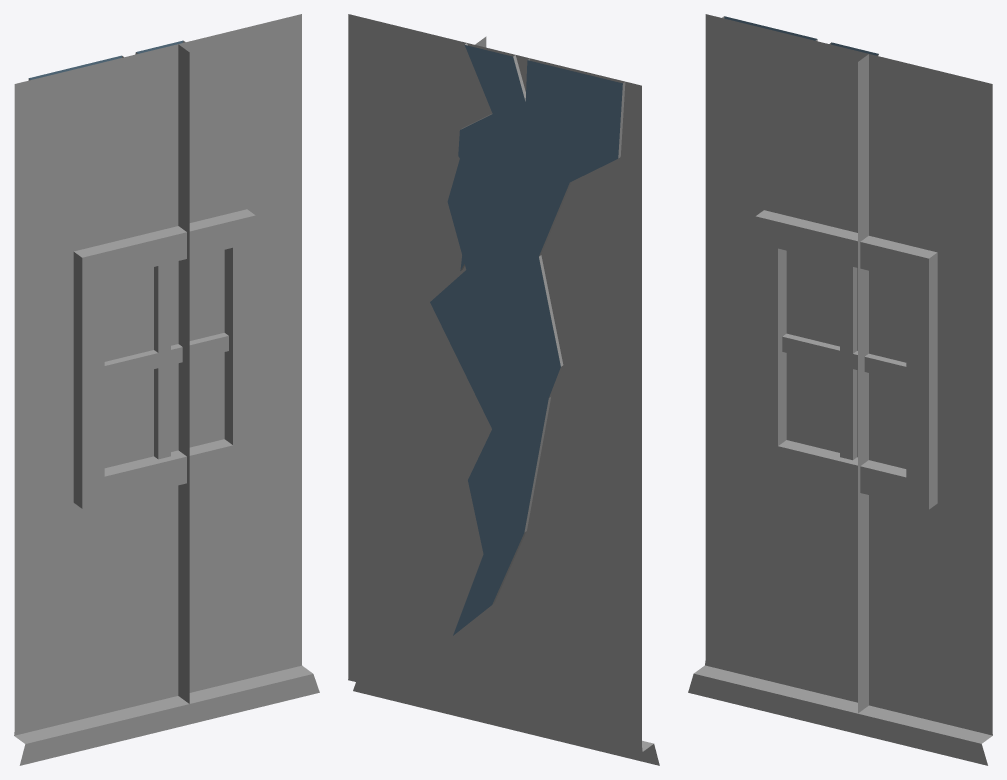
File: TileMuro.fbx
3 renders of one model, left to right at view 1: azimuth 30°, elevation 25°; view 2: azimuth 150°, elevation 25°; view 3: azimuth 330°, elevation 25°, orthographic. The views are drawn at different scales.
Parts seen in each view (by area): view 1: TileMuro1, TileMuro6, TileMuro7, TileMuro2, TileMuro3, TileMuro4, TileMuro5, TileMuro8; view 2: TileMuro1, TileMuro3, TileMuro4, TileMuro6, TileMuro7, TileMuro5; view 3: TileMuro1, TileMuro3, TileMuro6, TileMuro2, TileMuro4, TileMuro7, TileMuro8, TileMuro5.
Boxes of the visible parts, x1,y1,x2,y2 form: TileMuro1: [14, 14, 312, 753]; TileMuro6: [14, 36, 319, 747]; TileMuro7: [14, 16, 301, 765]; TileMuro2: [73, 209, 255, 508]; TileMuro3: [14, 29, 312, 764]; TileMuro4: [14, 14, 301, 728]; TileMuro5: [14, 46, 241, 184]; TileMuro8: [158, 44, 189, 703]; TileMuro1: [348, 14, 653, 764]; TileMuro3: [348, 14, 653, 762]; TileMuro4: [348, 15, 641, 741]; TileMuro6: [348, 14, 653, 758]; TileMuro7: [348, 21, 659, 765]; TileMuro5: [348, 15, 641, 188]; TileMuro1: [694, 14, 992, 763]; TileMuro3: [694, 14, 974, 752]; TileMuro6: [694, 16, 992, 765]; TileMuro2: [755, 210, 937, 509]; TileMuro4: [705, 16, 992, 730]; TileMuro7: [688, 34, 992, 761]; TileMuro8: [841, 53, 868, 713]; TileMuro5: [705, 14, 945, 166].
Bounding box in the file's own units: 209 × 448 × 16.5.
